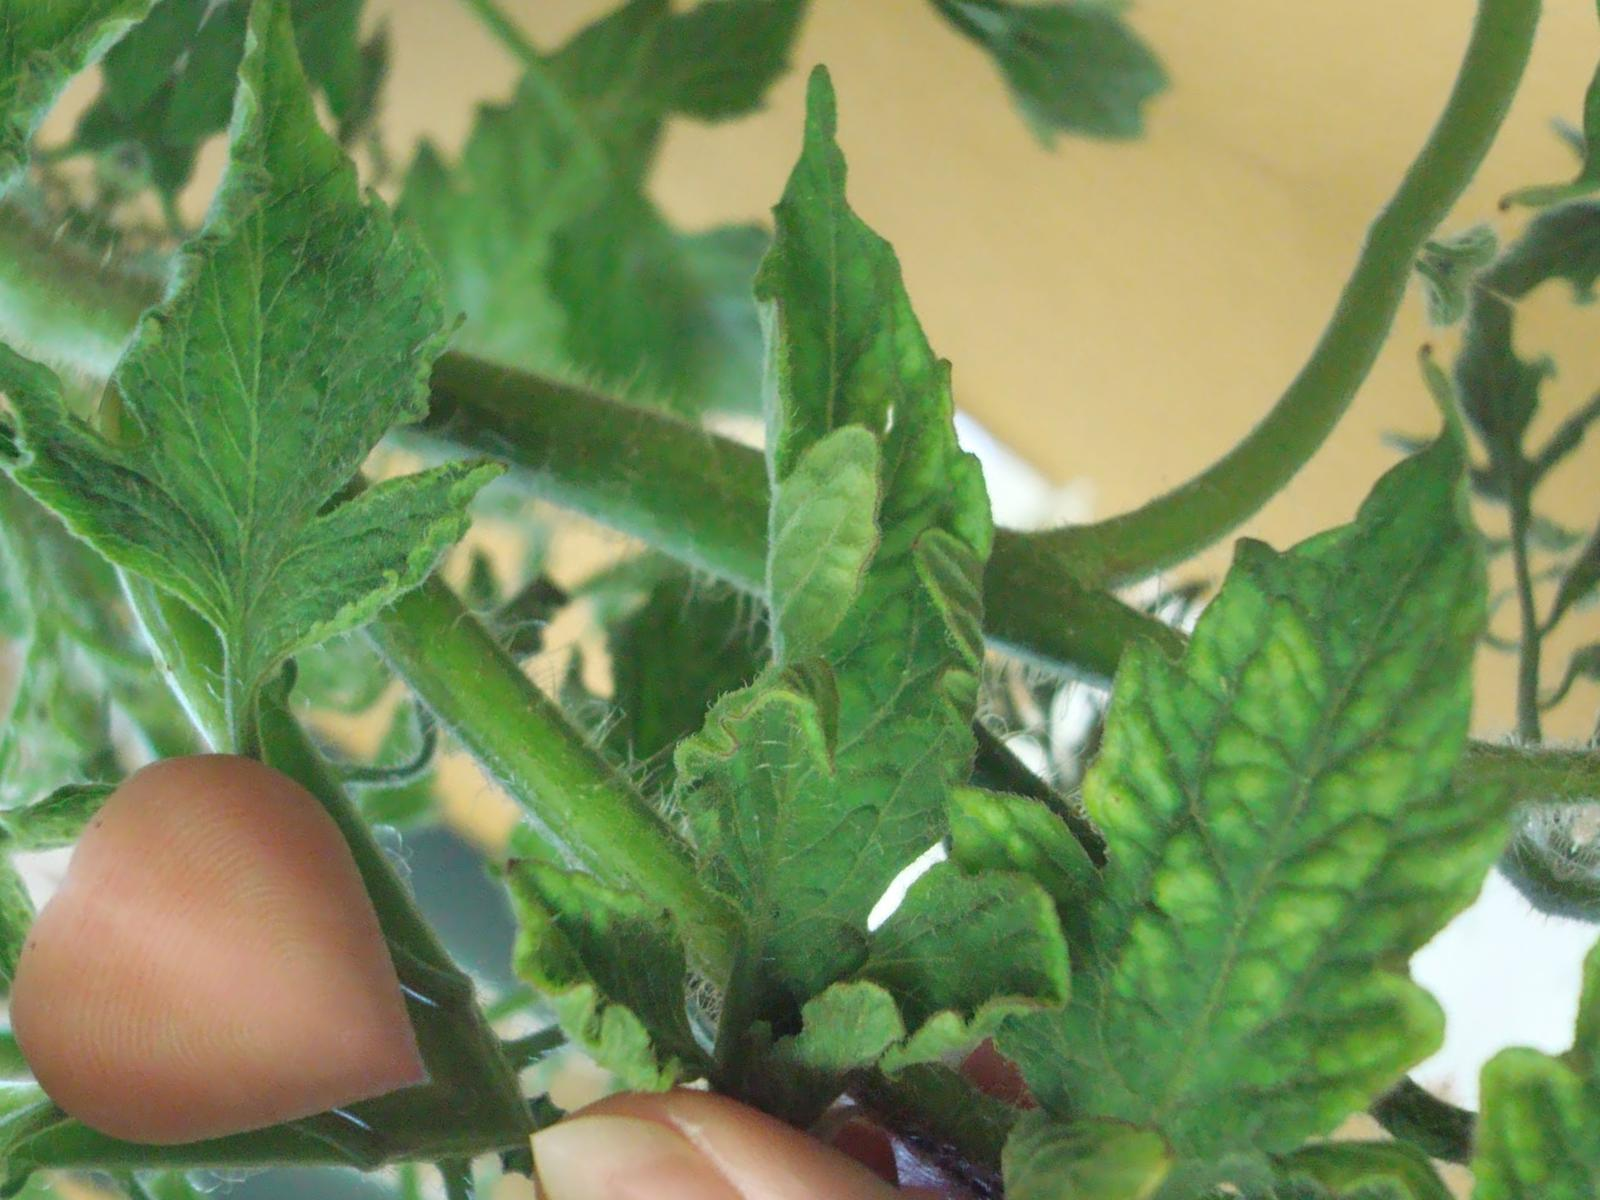Tomato leaf mosaic virus: (398, 59, 1393, 1142), (838, 332, 1600, 1200), (0, 0, 673, 737)
